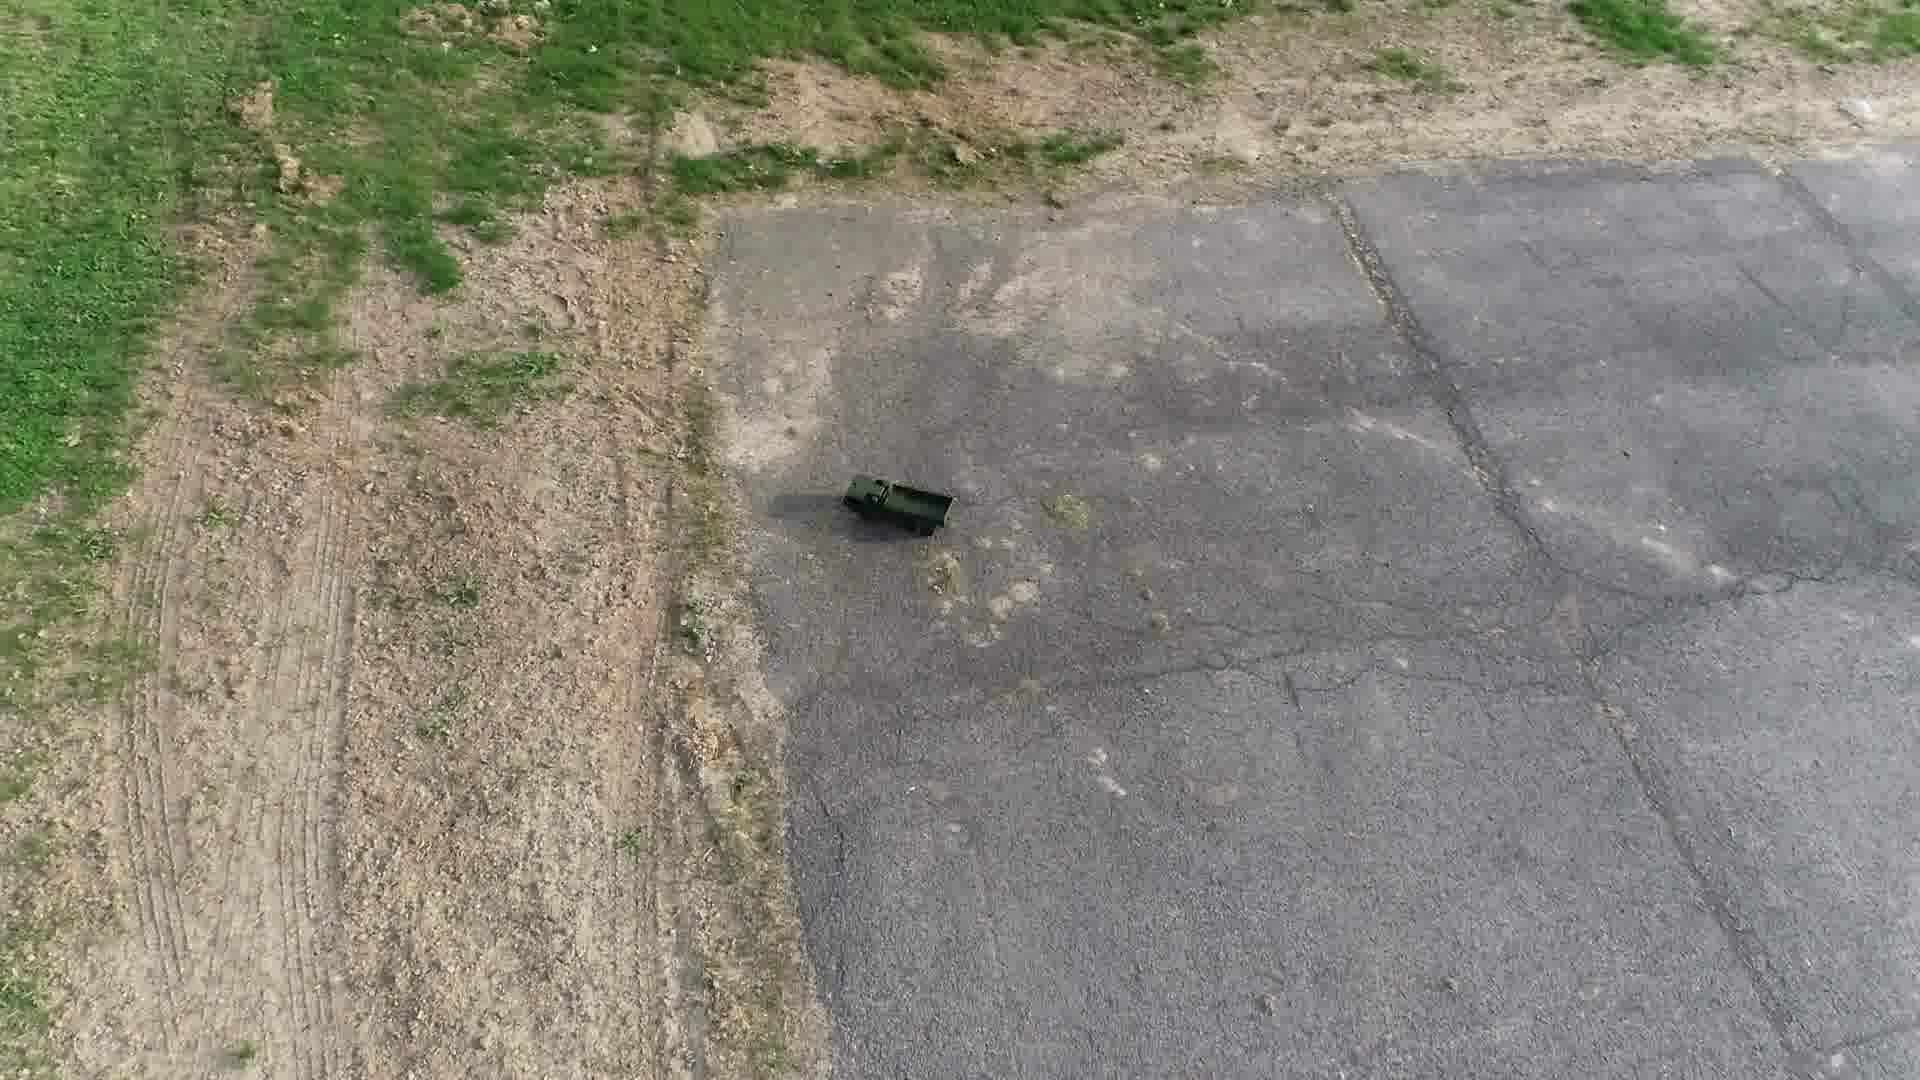transporter9: (841, 472, 959, 542)
